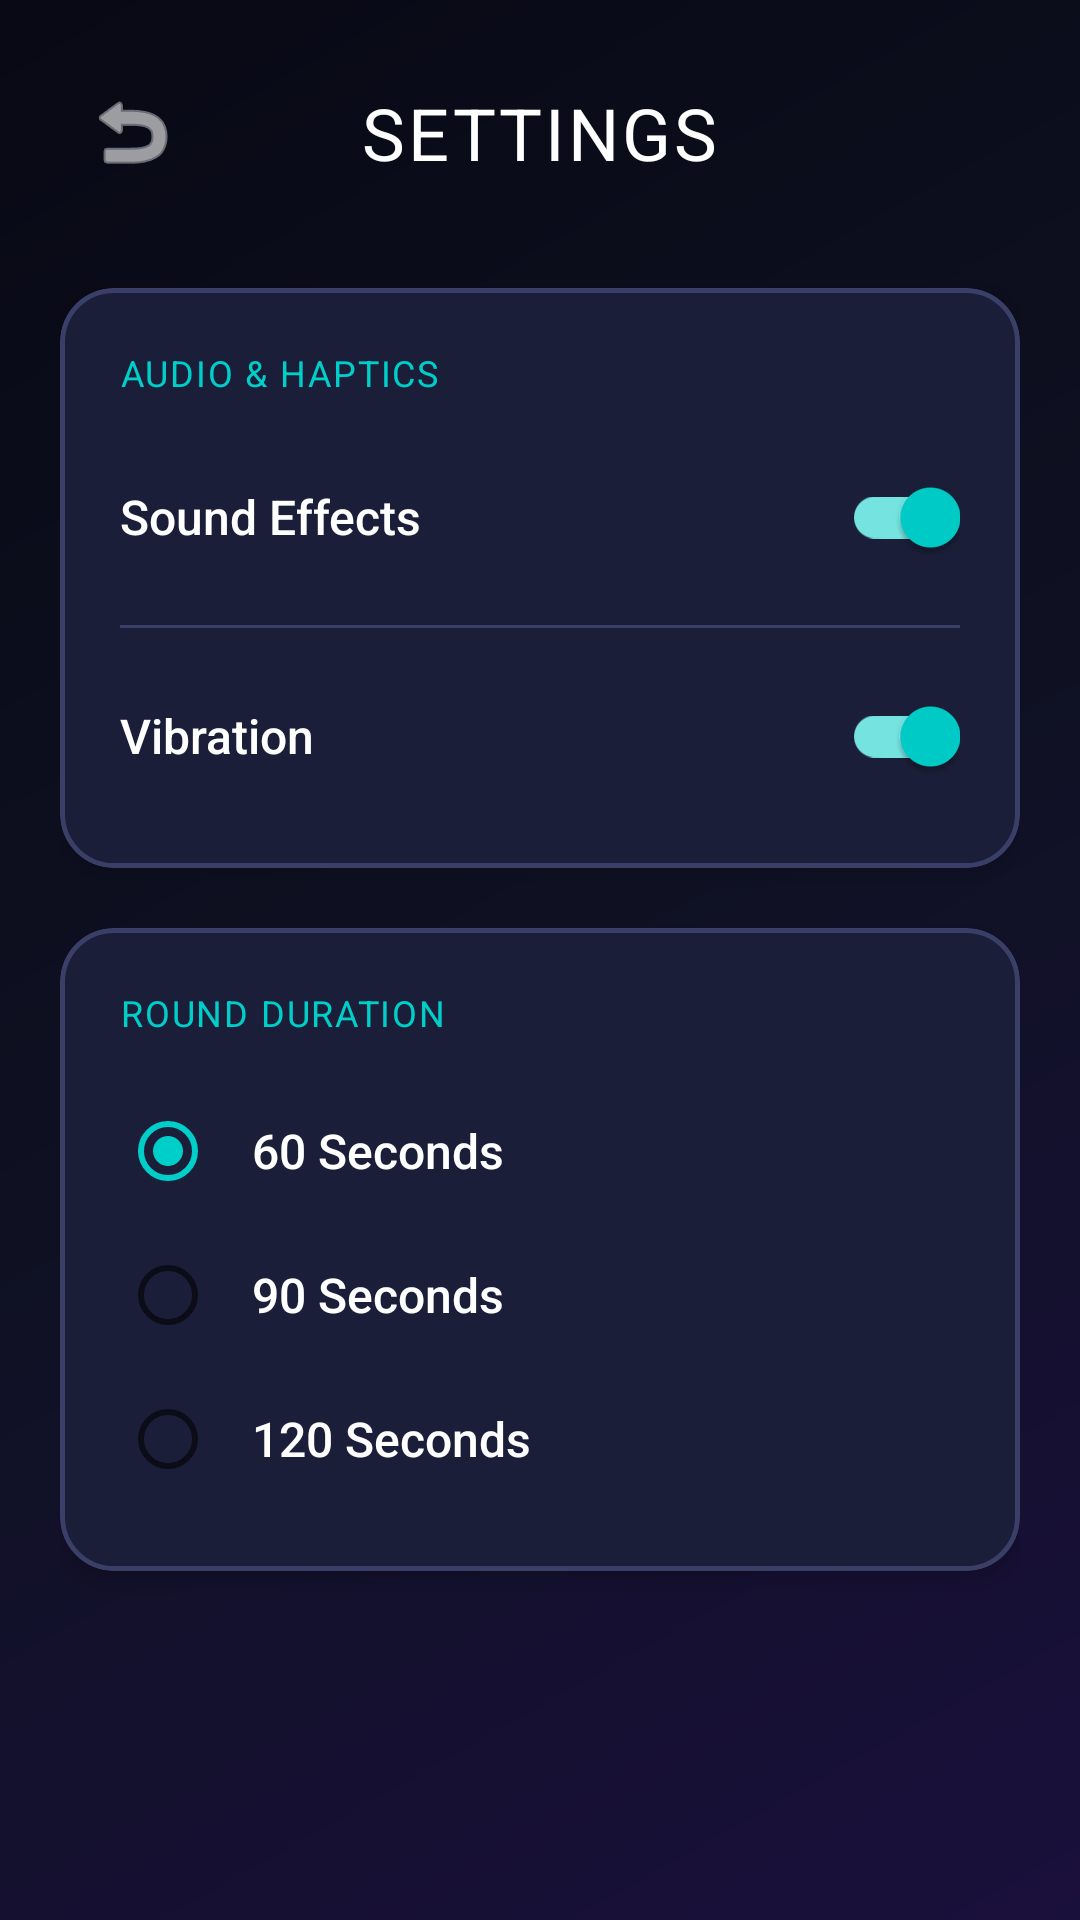

Point at icon controls on the screen. Image size 1080 x 1920, points as (x=x, y=y).
Back: (x=133, y=132)
